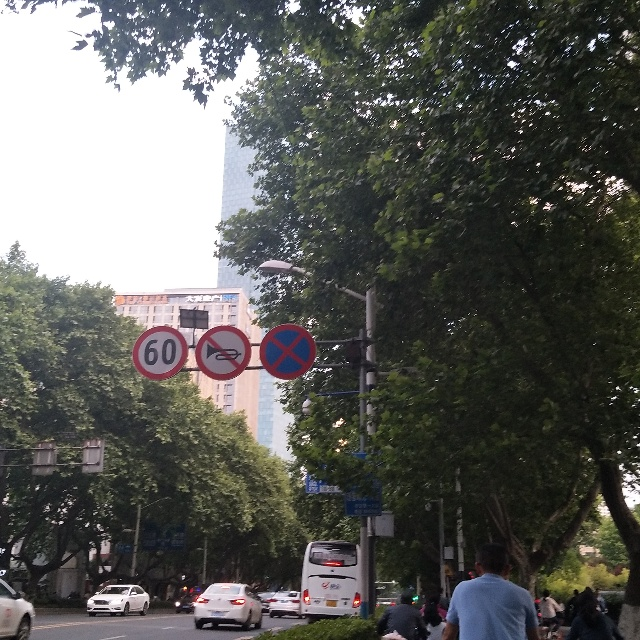nohonk: (197, 324, 250, 375)
stop: (262, 327, 311, 380)
